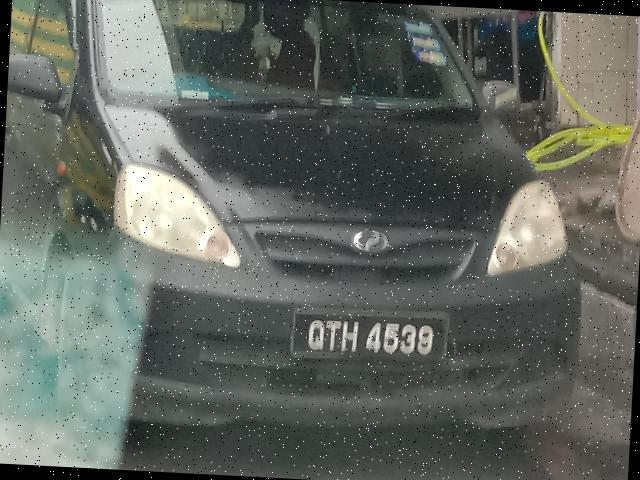License_Plate: (292, 307, 452, 367)
car: (1, 1, 601, 462)
